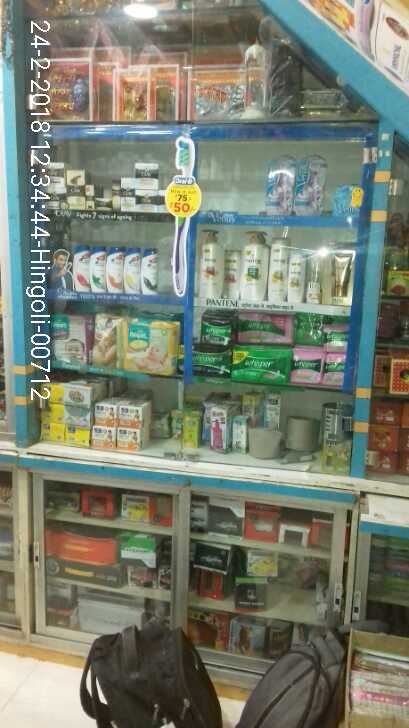venus: (266, 158, 294, 214), (294, 158, 321, 215), (333, 186, 358, 212)
